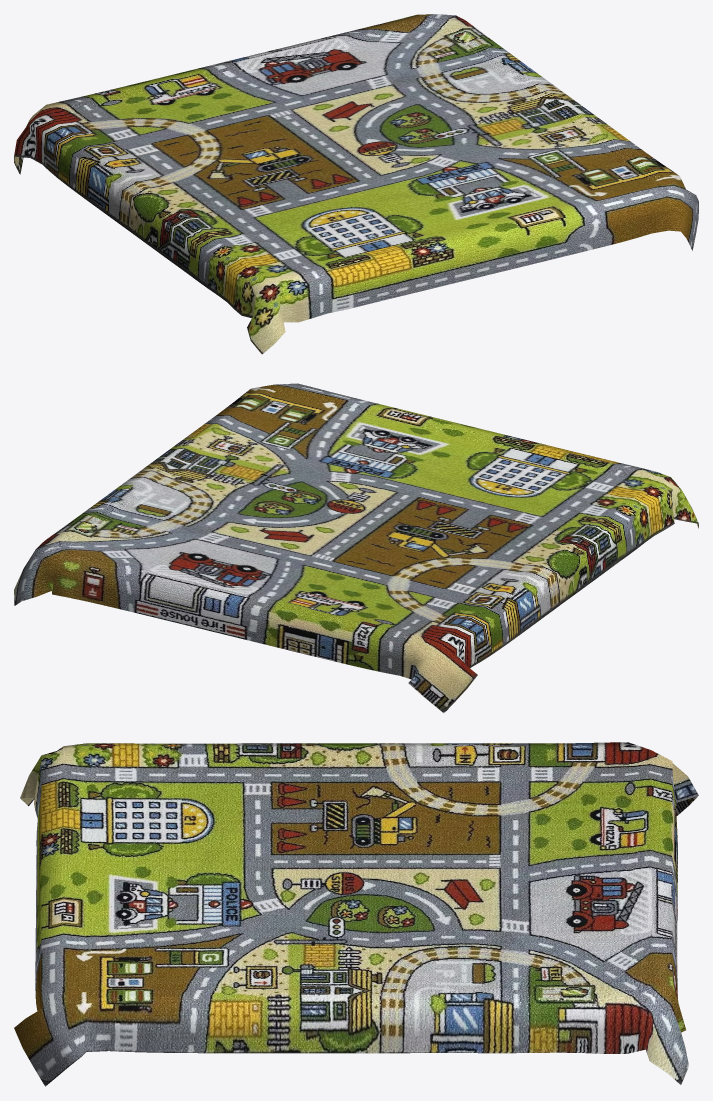
The picture shows the model from 3 angles, top to bottom: view 1: azimuth 30°, elevation 25°; view 2: azimuth 150°, elevation 25°; view 3: azimuth 270°, elevation 25°; orthographic projection. The views are drawn at different scales.
Visible parts, largest first — view 1: mat; view 2: mat; view 3: mat.
Part boxes in pixels (box(x1,y1,x2,y2)): mat: box(14, 14, 698, 354); mat: box(14, 383, 698, 712); mat: box(14, 742, 698, 1086).
Size of the model in its own units: 224 by 224 by 30.65.
Materials: 1 (1 with a texture image).
